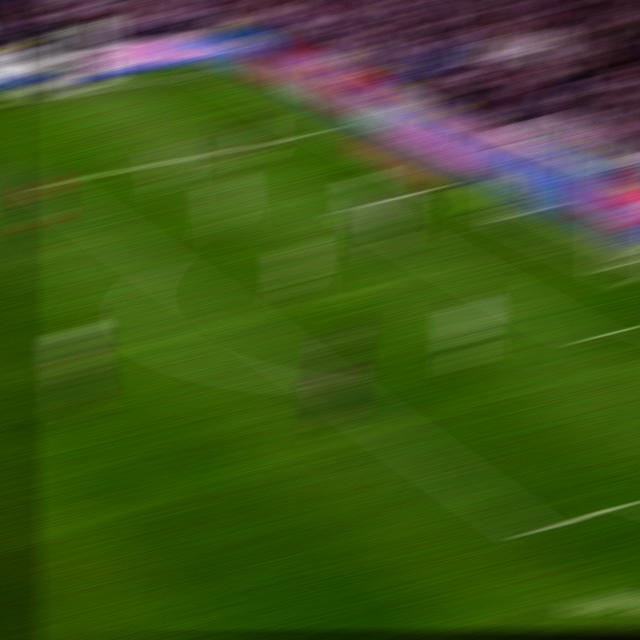bigarea_bottom_inner: (515, 515, 550, 546)
bigarea_top_inner: (34, 179, 60, 191)
bigarea_top_outter: (313, 123, 341, 135)
corner: (195, 66, 226, 75)
smallarea_top_inner: (339, 202, 364, 211)
top_arc_area_intersection: (144, 254, 177, 274)
